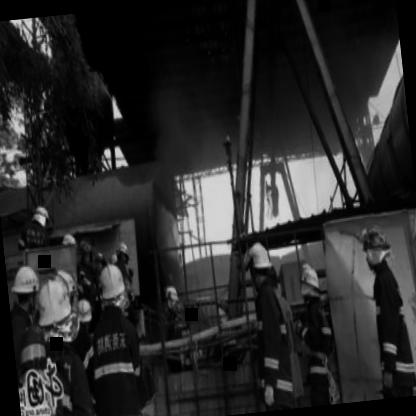helmet: (34, 274, 78, 338), (9, 260, 43, 314), (243, 236, 276, 290), (97, 260, 130, 314), (357, 222, 393, 269), (296, 261, 327, 308), (77, 293, 96, 336), (78, 230, 97, 263), (113, 237, 133, 264)
